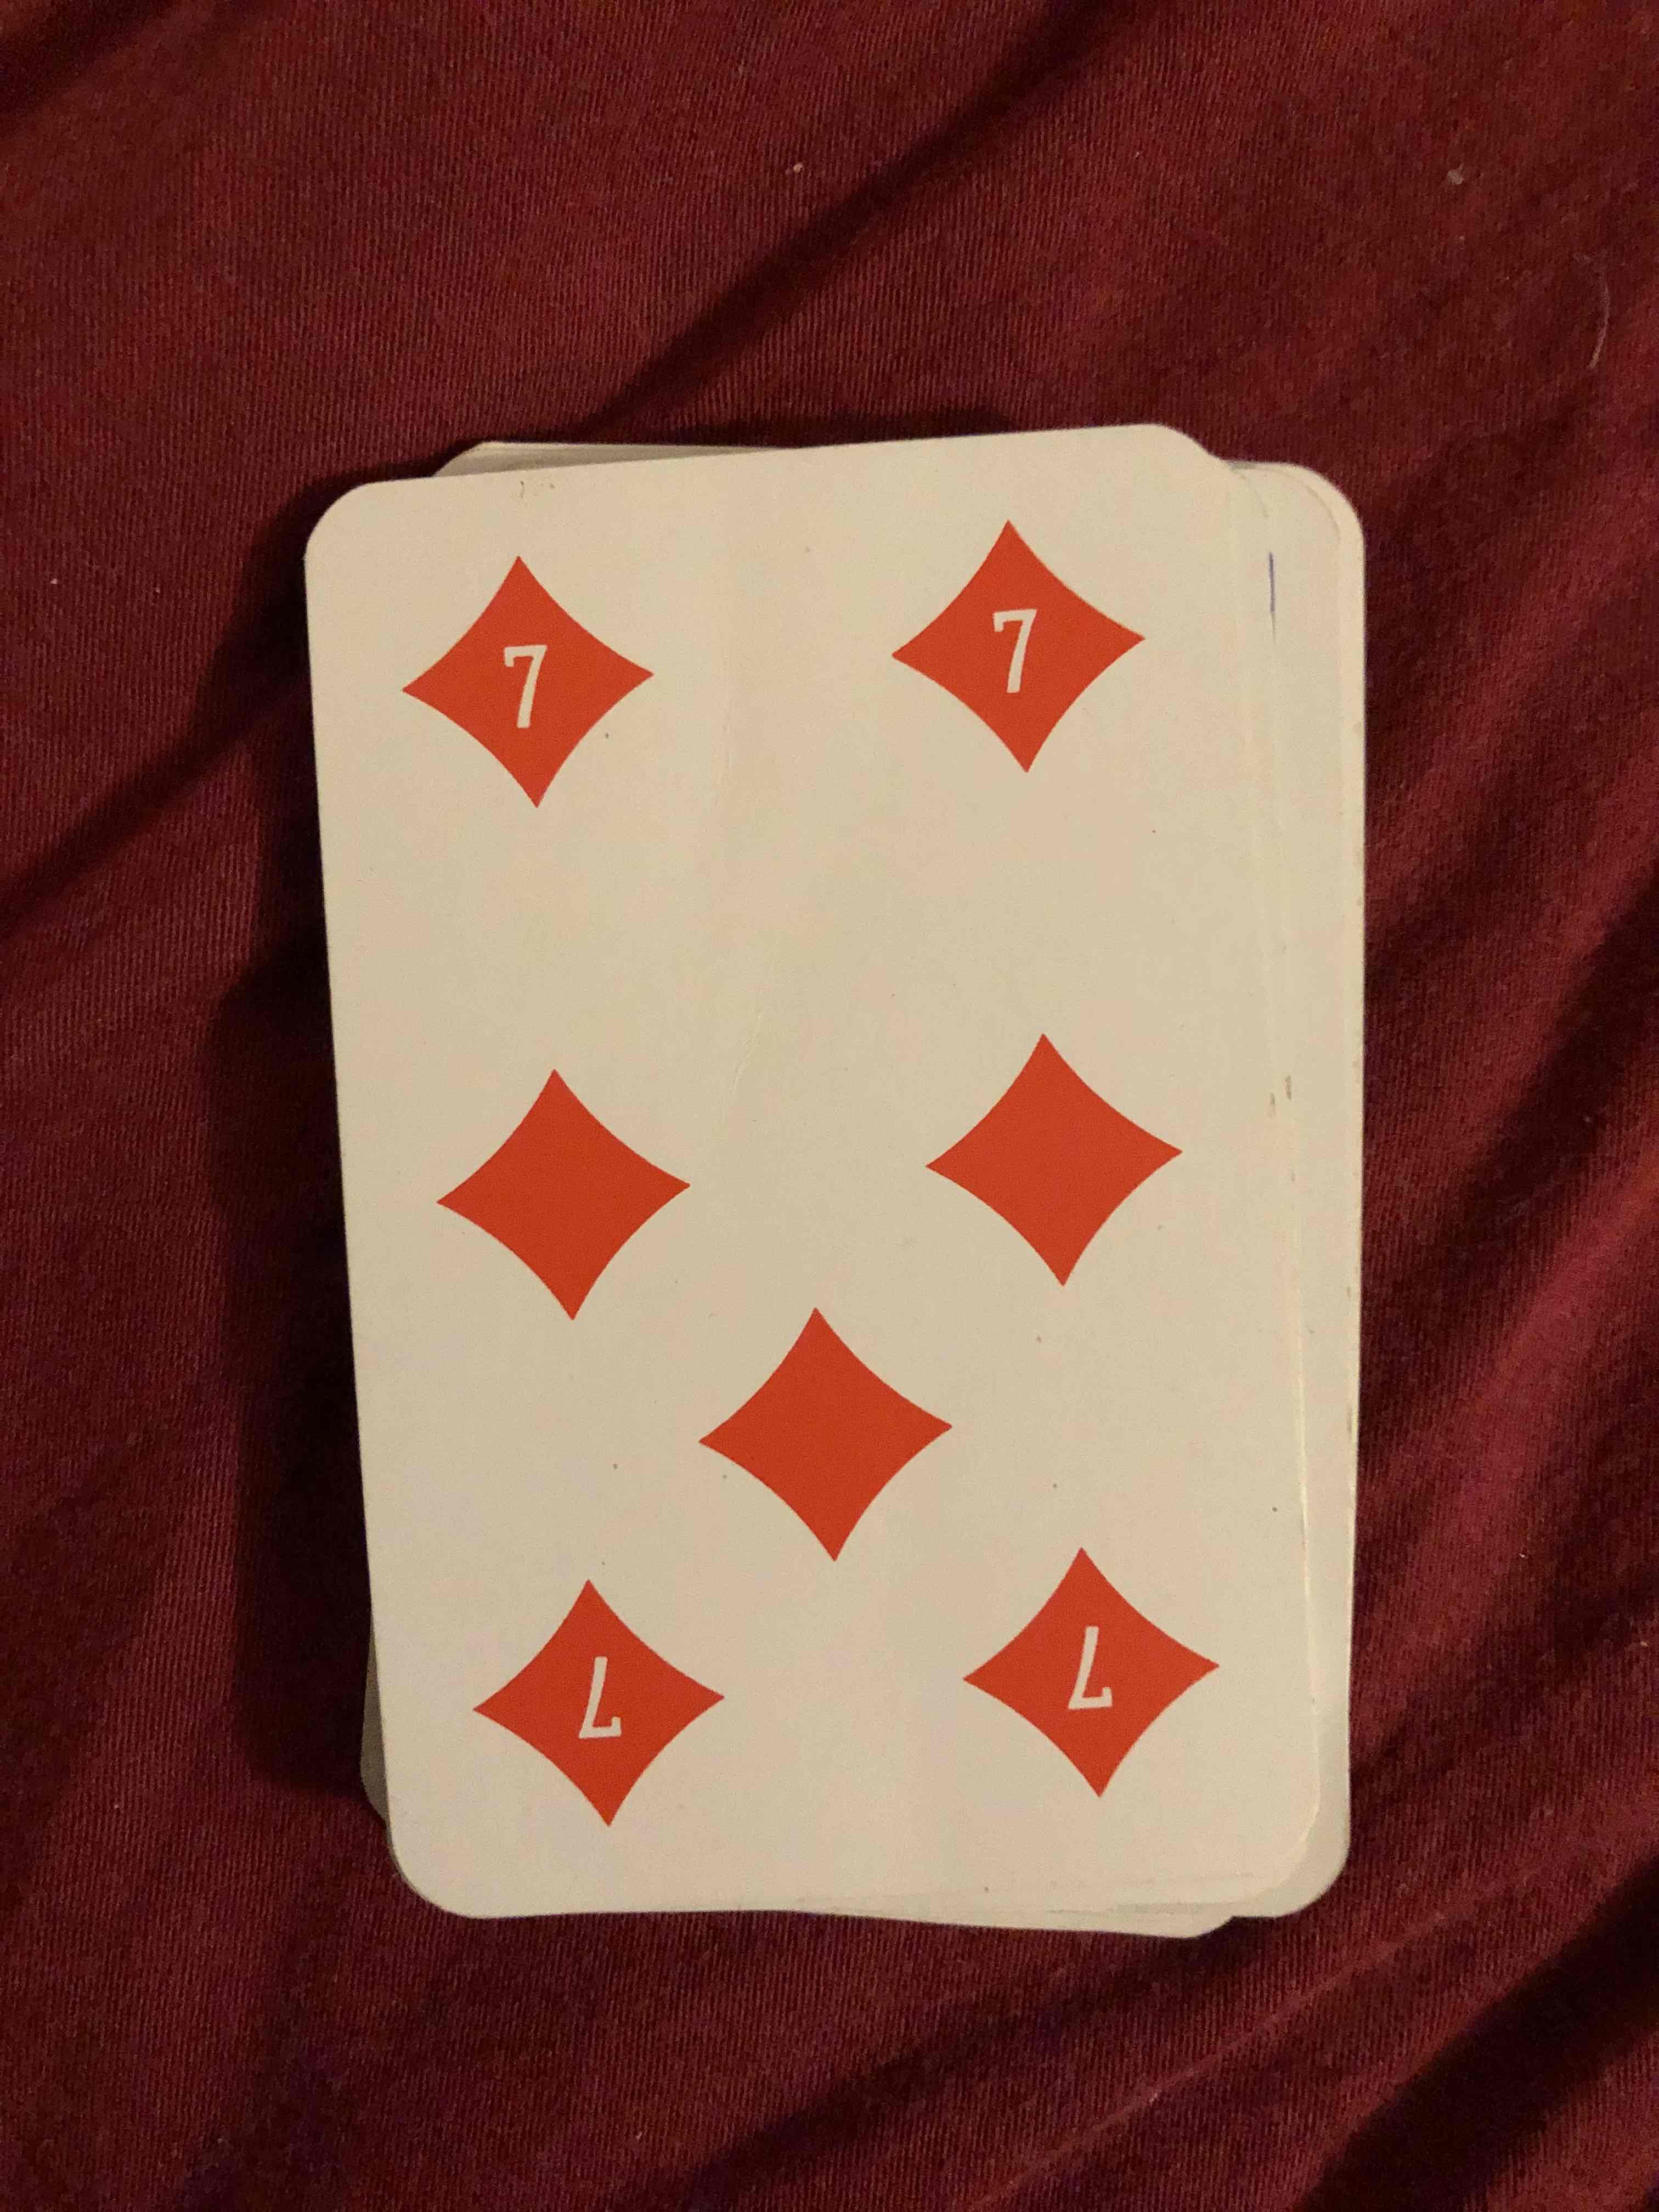diamond7: (321, 482, 1298, 1867)
